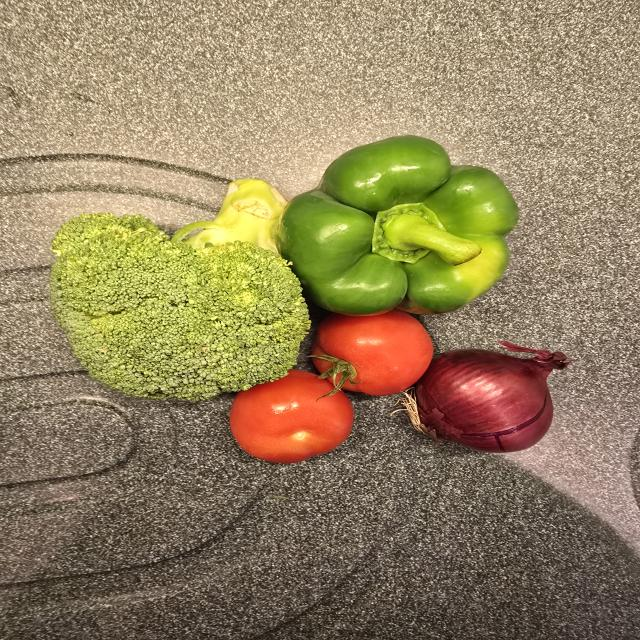Bell Pepper: (276, 136, 518, 315)
Broccoli: (50, 179, 310, 401)
Onion: (413, 341, 572, 452)
Tomato: (230, 370, 353, 463), (313, 310, 433, 396)
